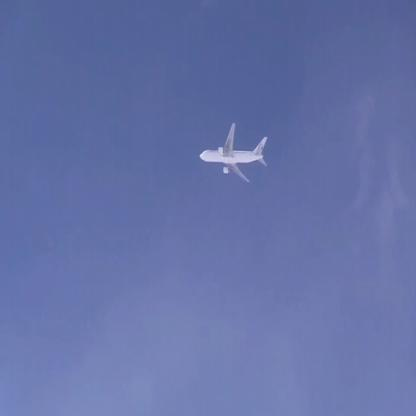plane: (200, 124, 269, 182)
